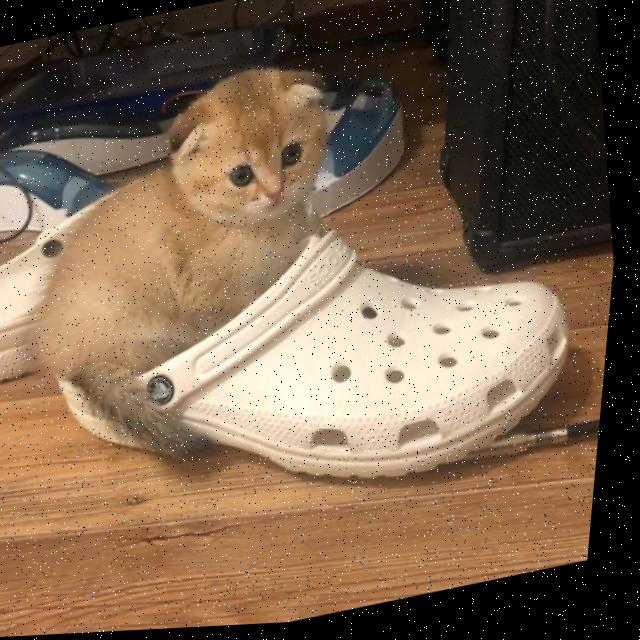Cats: (100, 44, 390, 360)
